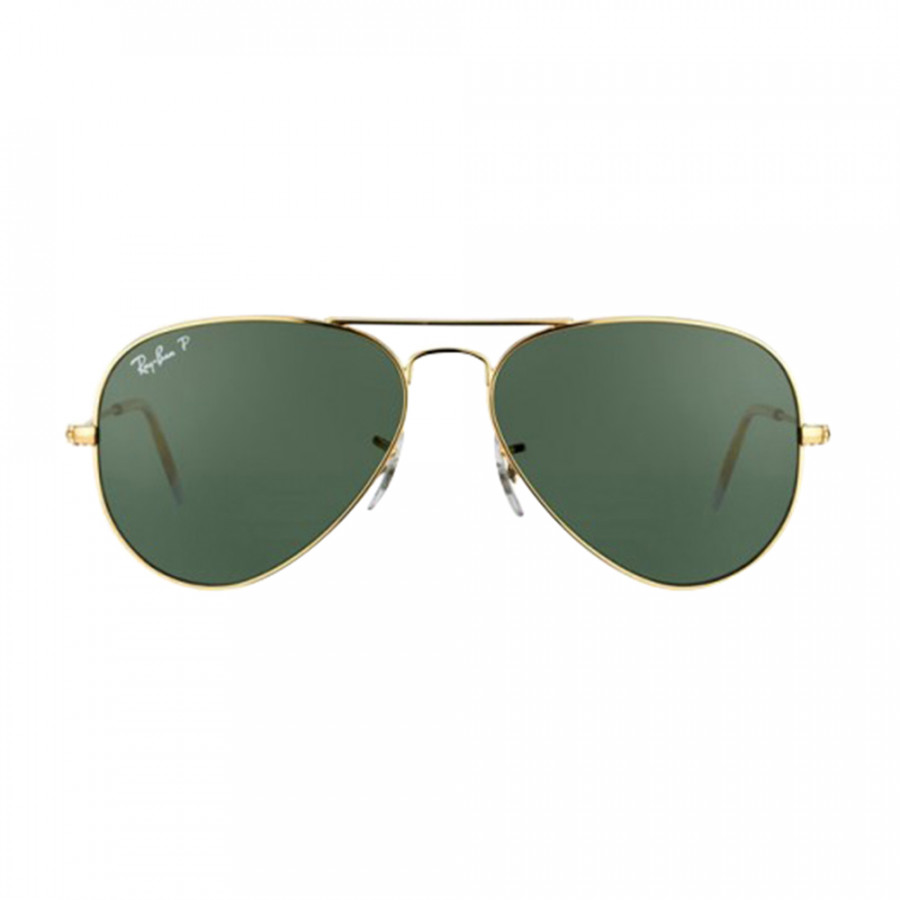Rayban: (123, 334, 180, 382)
